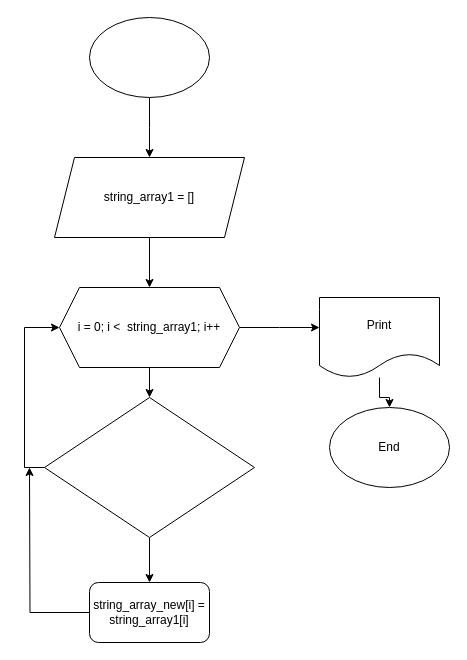
The diagram is 467 pixels wide and 660 high, and some of its shapes have lost their labels. Each missing label, with the centre of its shape:
Start: the point at 149,57
string_array1[i].Length <= 3: the point at 149,467
